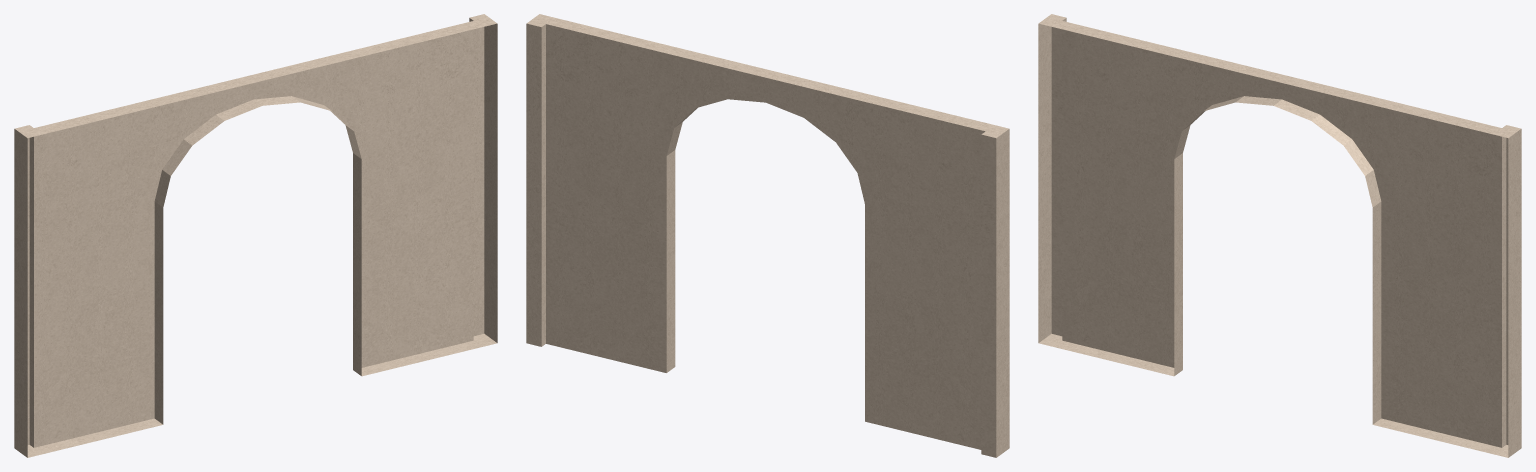
The model's file is rg_entrances_design_base.fbx.
3 views of the same model, side by side, from view 1: azimuth 30°, elevation 25°; view 2: azimuth 150°, elevation 25°; view 3: azimuth 330°, elevation 25° (orthographic).
Parts seen in each view (by area): view 1: rg_entrances_design_base; view 2: rg_entrances_design_base; view 3: rg_entrances_design_base.
Part boxes in pixels (<box>): rg_entrances_design_base: <box>14,14,497,457</box>; rg_entrances_design_base: <box>526,14,1009,457</box>; rg_entrances_design_base: <box>1038,14,1521,457</box>.
Bounding box in the file's own units: 623 × 405 × 30.
